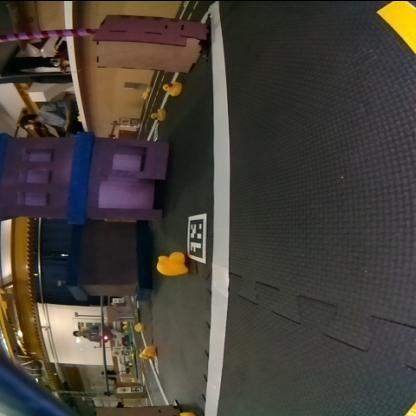Duckie: (155, 252, 187, 274), (161, 80, 181, 94), (150, 108, 164, 120), (144, 344, 154, 354), (133, 323, 143, 330)
QR code: (186, 212, 206, 260)
Traffic light: (102, 334, 107, 338)
